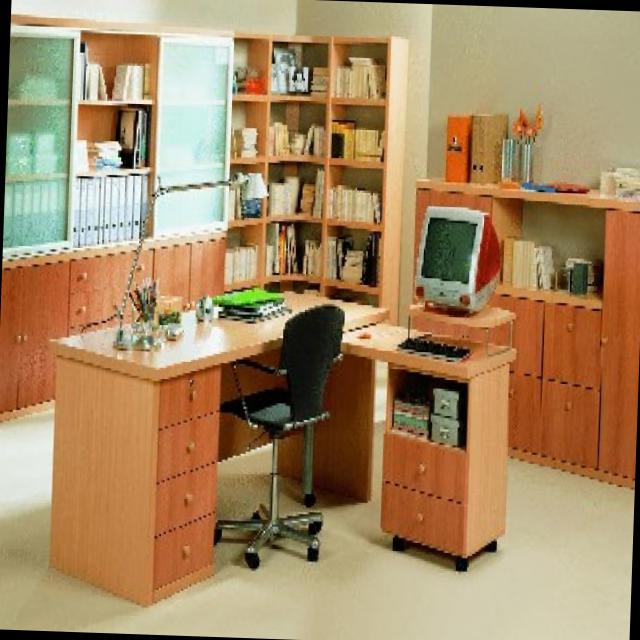binders: (71, 176, 147, 245), (4, 177, 67, 245)
book stand crop: (223, 28, 407, 324)
books crop: (80, 39, 149, 97), (264, 221, 320, 274), (325, 235, 381, 287), (502, 233, 553, 284), (329, 119, 383, 162), (331, 57, 385, 99), (325, 187, 381, 224), (267, 120, 324, 155), (223, 242, 254, 286), (266, 176, 297, 214), (88, 138, 120, 172), (300, 168, 322, 216), (233, 66, 264, 93), (234, 125, 257, 155), (310, 65, 327, 92)
box contants: (467, 114, 505, 181), (445, 114, 471, 182), (392, 400, 428, 437), (429, 413, 459, 445), (431, 388, 458, 418), (7, 130, 30, 157), (6, 154, 33, 175), (32, 152, 57, 174), (33, 134, 56, 149)
cabinet door: (0, 14, 229, 416), (406, 167, 640, 489)
chair -occluded-: (215, 304, 343, 568)
desk calendar: (47, 291, 516, 603)
files: (212, 288, 290, 317)
floor -X: (0, 406, 633, 640)
flowers in pot: (502, 102, 545, 187)
keyboard crop: (397, 333, 473, 362)
lamp crop: (111, 173, 268, 351)
magazines: (119, 107, 146, 167)
monitor crop: (413, 204, 503, 315)
mug: (567, 260, 585, 294), (556, 264, 568, 287)
objecct: (194, 290, 213, 321)
object: (129, 320, 184, 341), (529, 176, 587, 191), (155, 291, 182, 321)
papers: (599, 169, 640, 200)
pbject: (564, 253, 597, 288)
pens: (130, 281, 158, 315)
picture crop: (287, 64, 310, 91)
pictures in frames: (269, 48, 299, 91)
wall clock: (295, 0, 432, 326), (426, 4, 640, 185), (12, 0, 296, 33)
